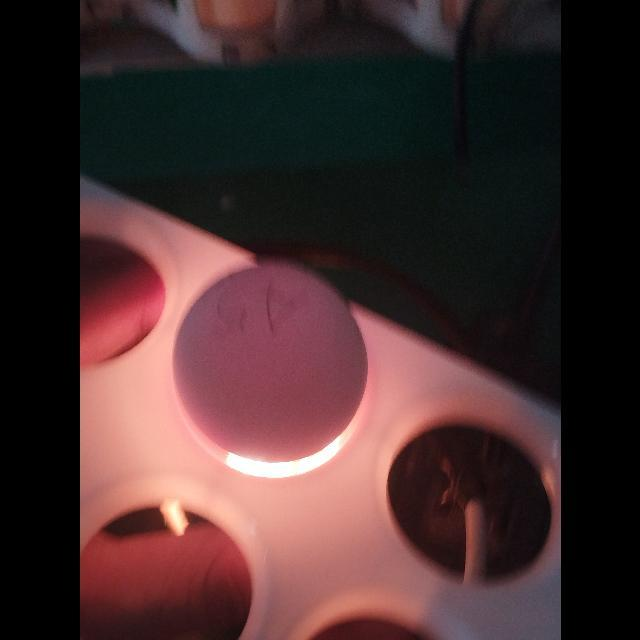Fertile: (171, 260, 371, 466)
